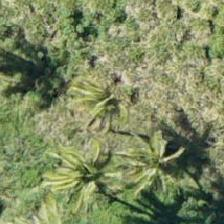coconut_tree: (121, 91, 211, 181), (41, 121, 131, 211), (60, 52, 150, 142)
